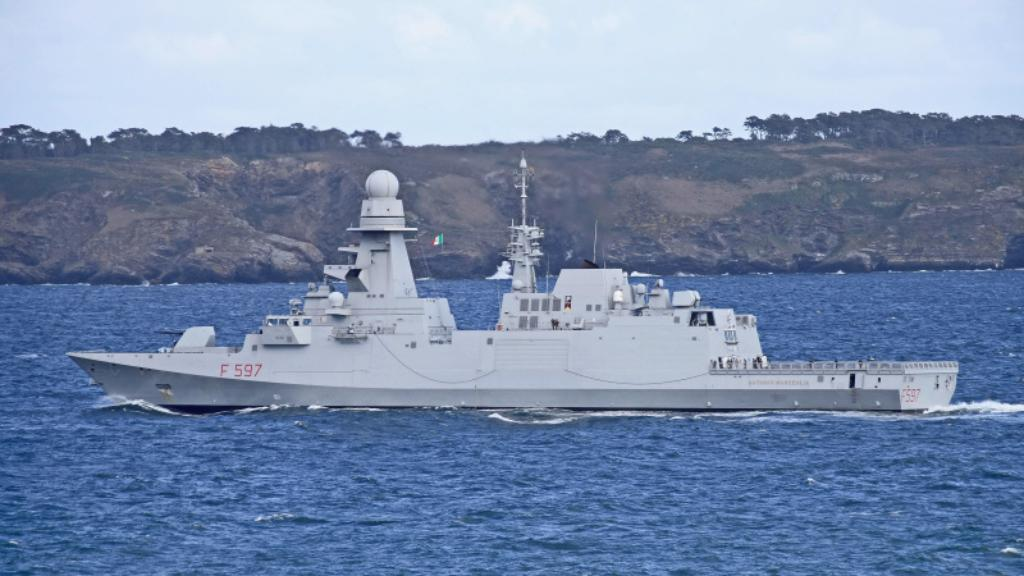Warship: (66, 144, 964, 416)
